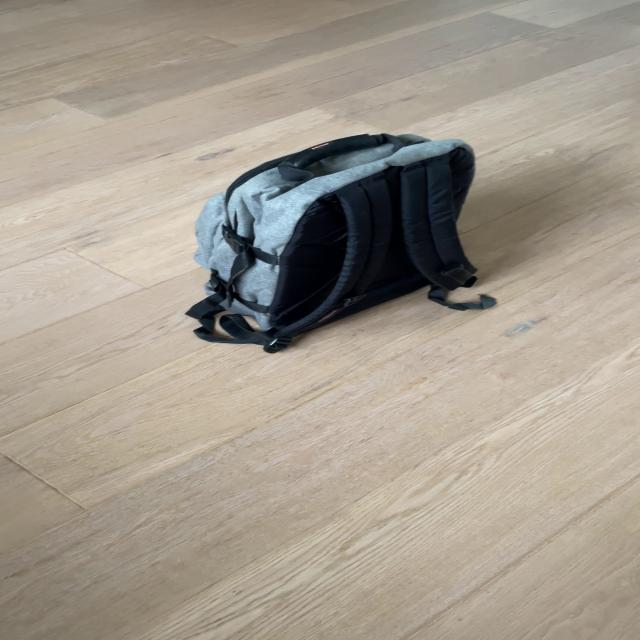backpack: (173, 121, 492, 356)
